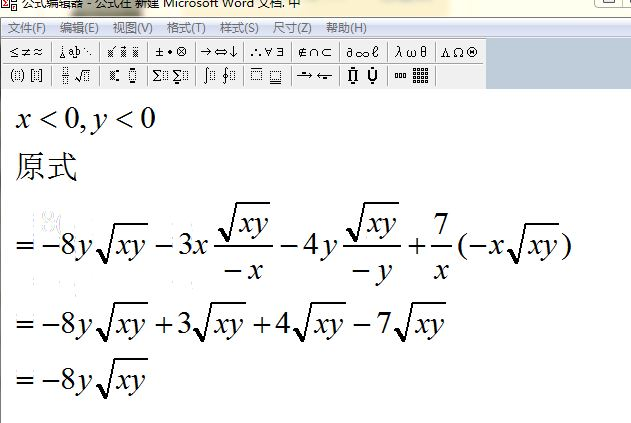division: (210, 240, 275, 253), (339, 237, 404, 249), (426, 239, 452, 252)
sqrt: (391, 300, 450, 344), (97, 220, 153, 266), (344, 199, 400, 243), (97, 299, 149, 346), (508, 220, 561, 266), (95, 356, 149, 401), (189, 301, 246, 343), (293, 300, 347, 344), (218, 197, 270, 242)
